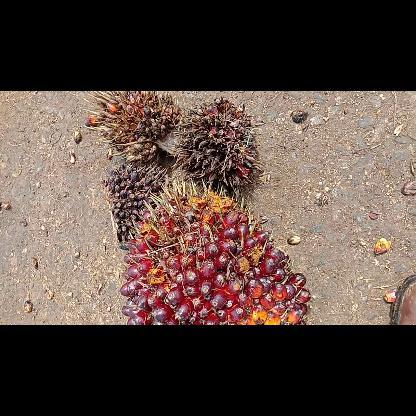TBS abnormal: (174, 95, 262, 196), (80, 92, 178, 162), (99, 164, 167, 244)
TBS masak: (118, 178, 316, 324)
